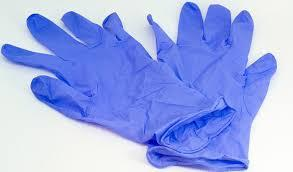Glove: (2, 12, 234, 150), (147, 3, 276, 170)
